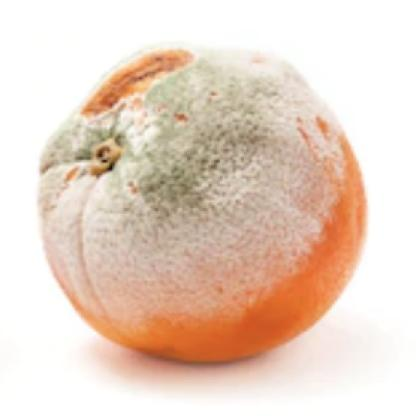rotten: (41, 49, 366, 365)
